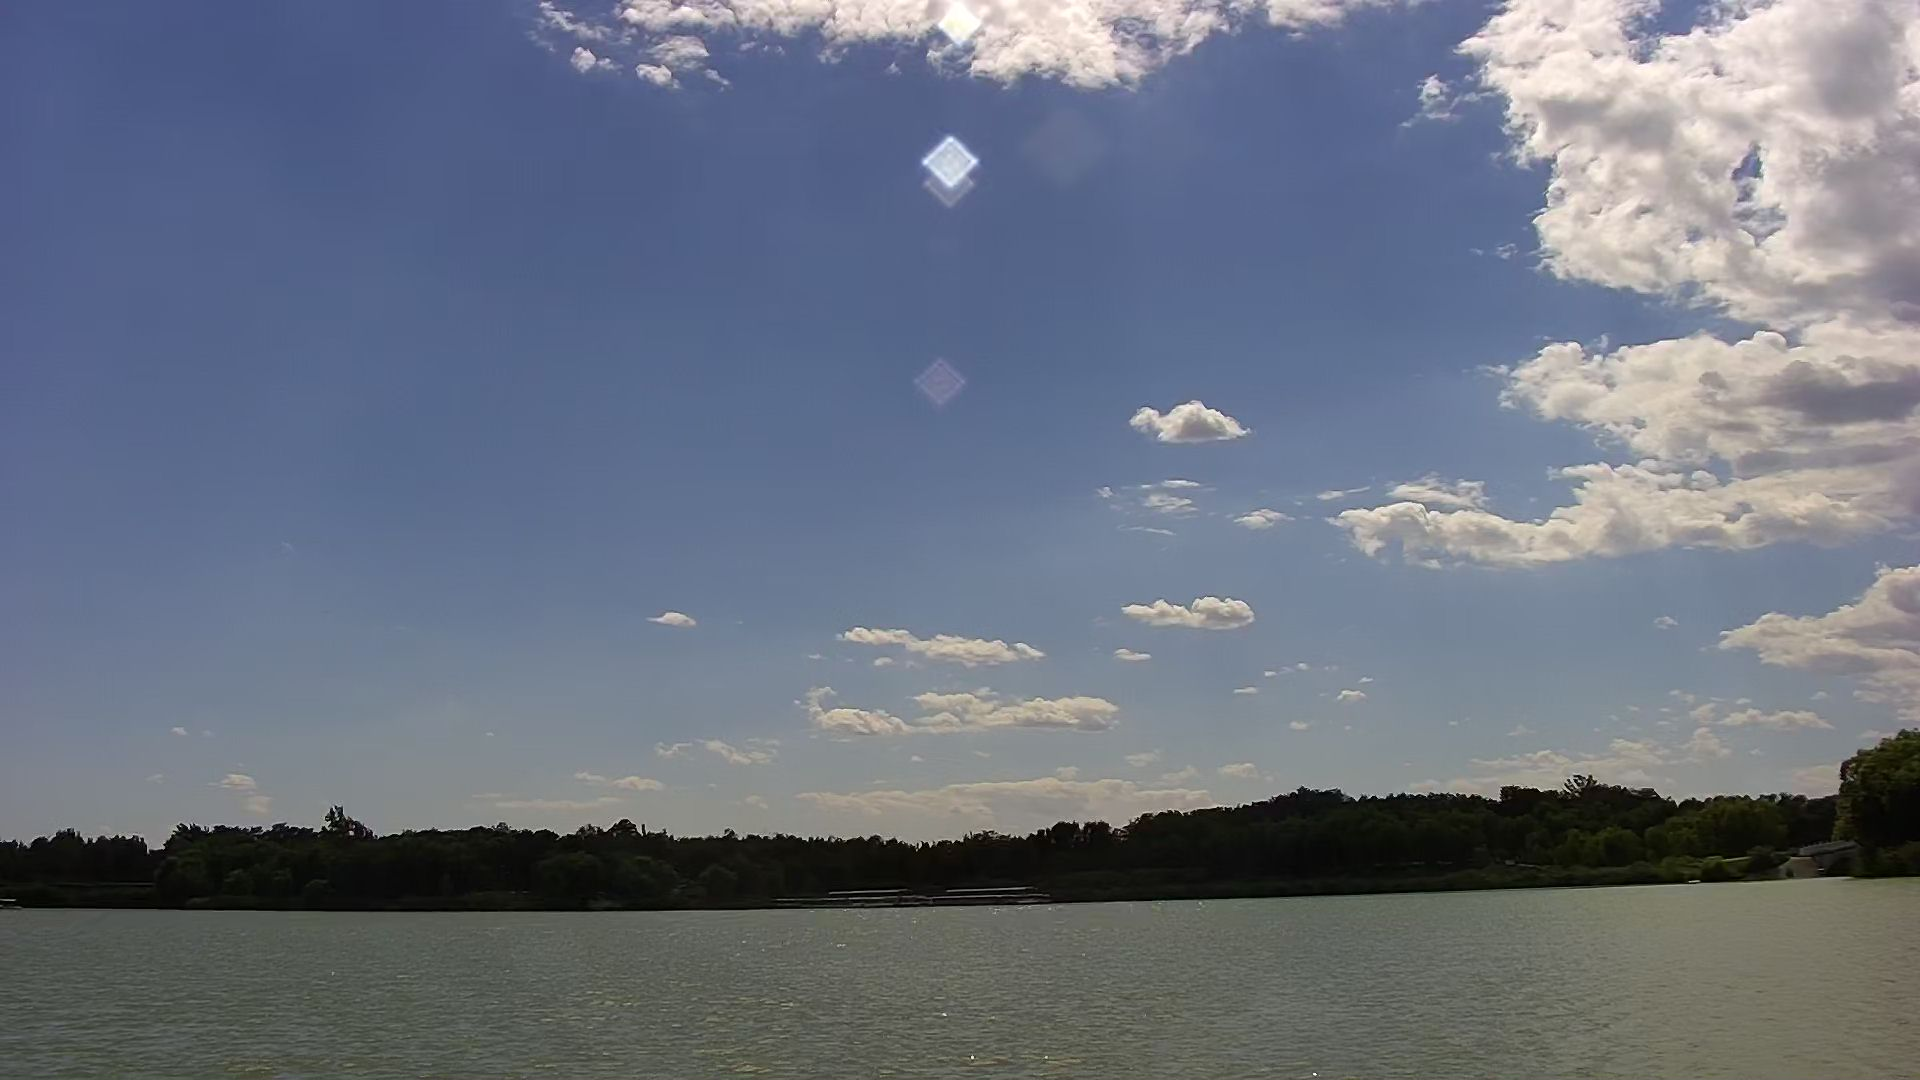harbor: (800, 887, 1025, 906)
